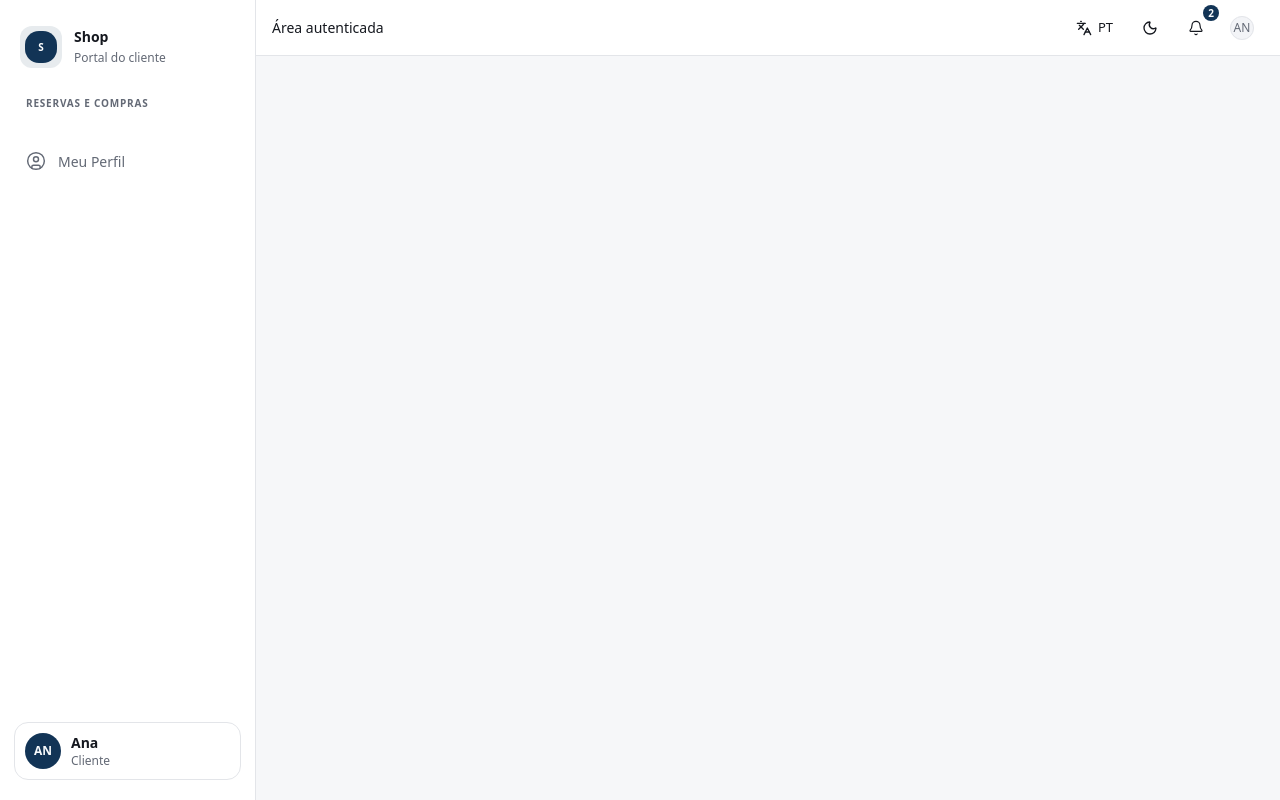
Scenario: customer notification interactions › marks everything read and refreshes the badge and open list
What coordinates should you click on to do the following:
click the button named "Notificações: 2 não lidas"
I would click on:
 (1196, 28)
Its box is [1174,6,1218,50].
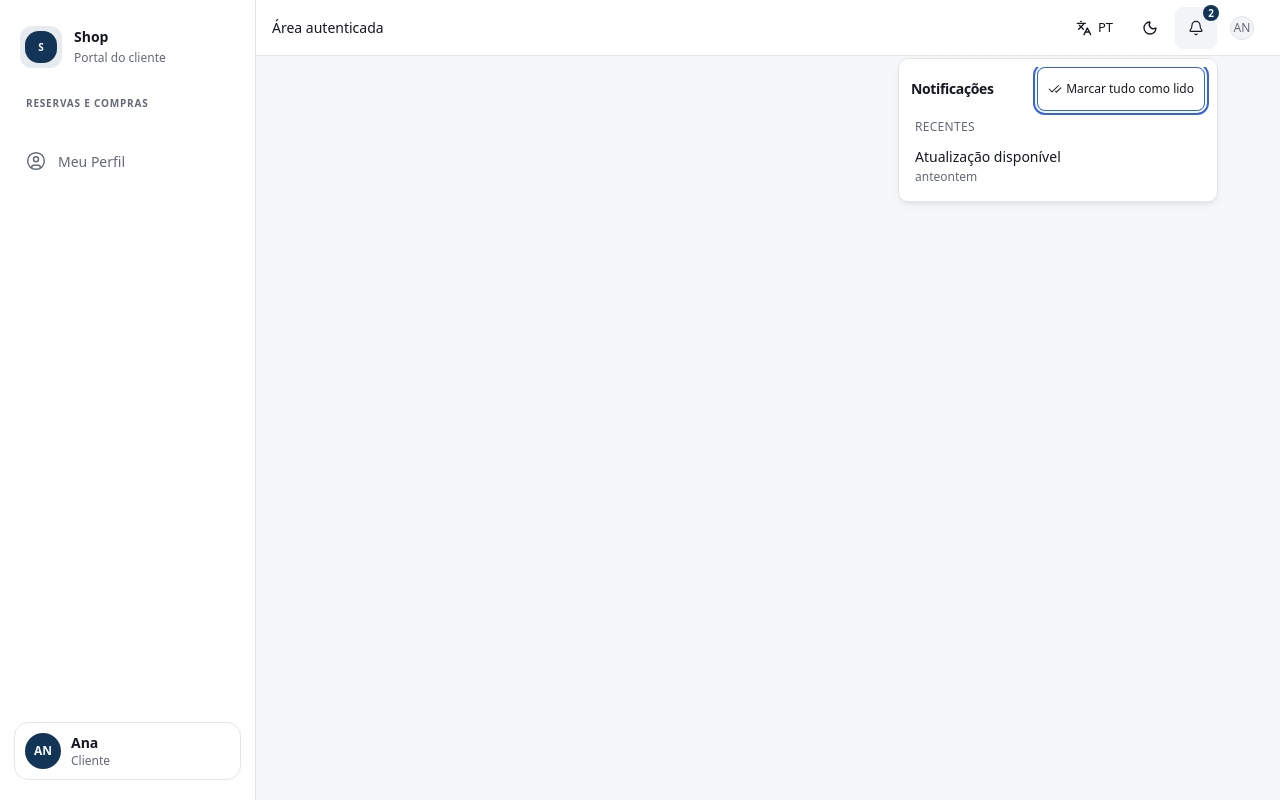
Check: the button "Atualização disponível" is shown, box [907,139,1209,193]
What coordinates should you click on to do the following:
click the button "Marcar tudo como lido"
I would click on:
 (1121, 89)
Its box is [1037,67,1205,111].
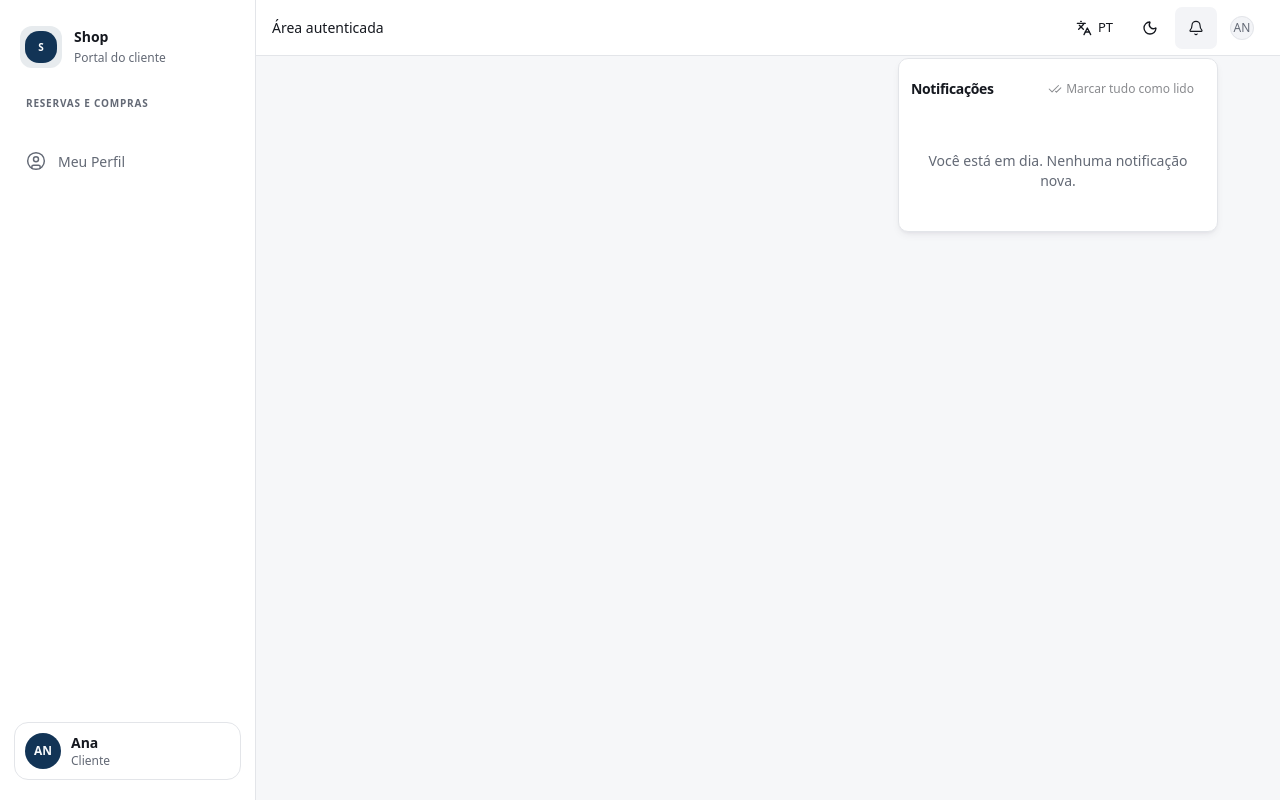
Check: the button named "Notificações" is shown, box [1174,6,1218,50]
Check: the button "Atualização disponível" is gone
Check: the button "Marcar tudo como lido" is disabled, box [1037,67,1205,111]
